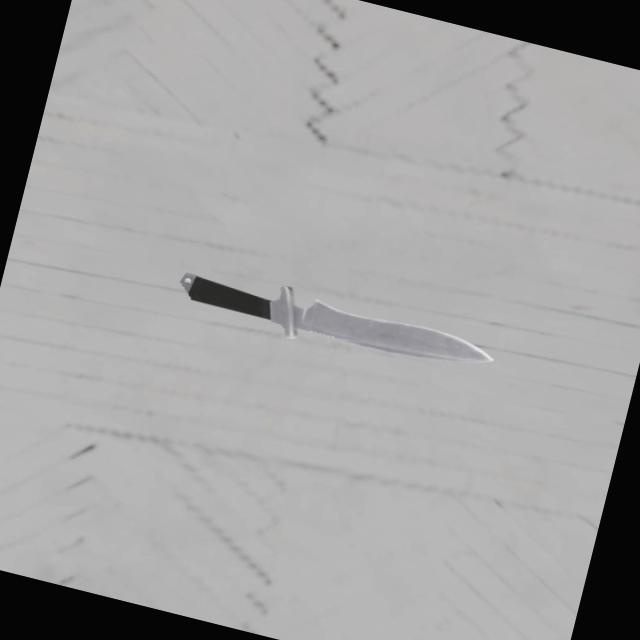knife: (160, 266, 274, 320)
